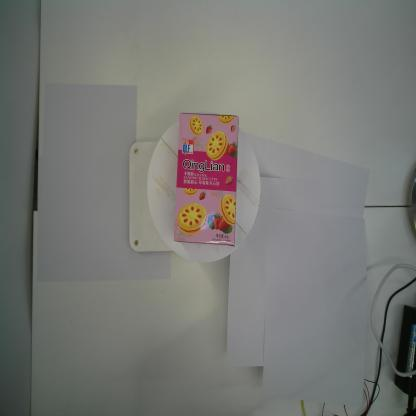Dessert: (174, 112, 240, 247)
